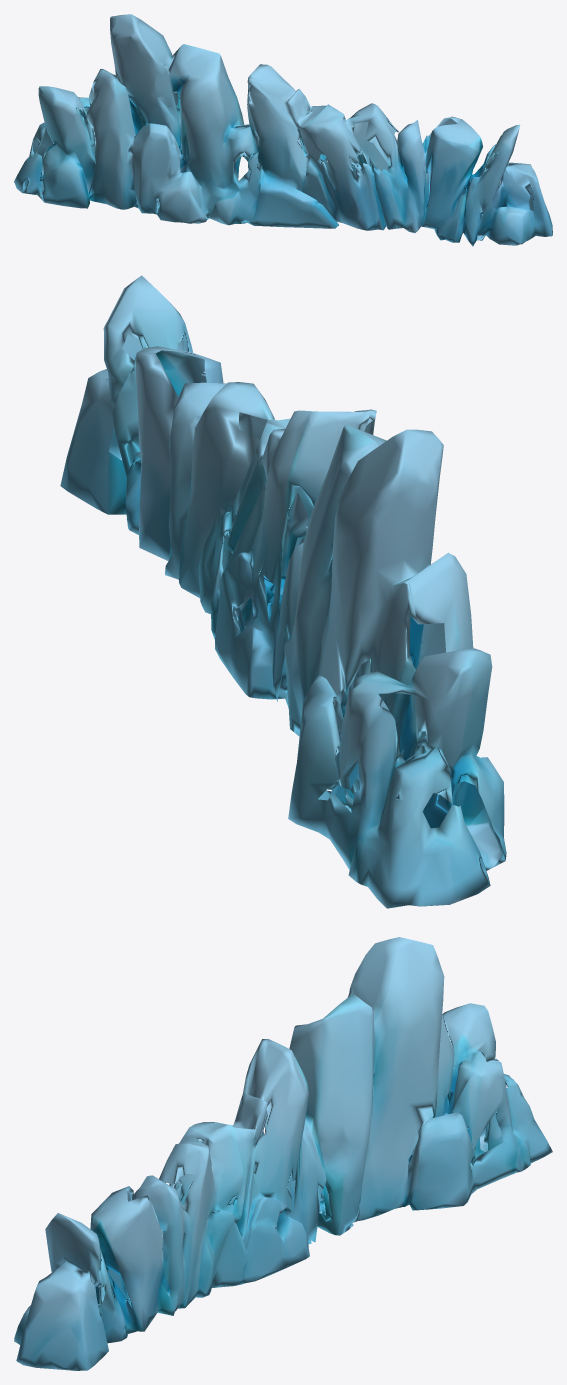
File: led-greben.glb
3 renders of one model, top to bottom at view 1: azimuth 30°, elevation 25°; view 2: azimuth 150°, elevation 25°; view 3: azimuth 270°, elevation 25°, orthographic. The views are drawn at different scales.
Visible parts, largest first — view 1: geometry_0; view 2: geometry_0; view 3: geometry_0.
Part boxes in pixels (box(x1,y1,x2,y2)): geometry_0: box(14, 14, 552, 246); geometry_0: box(60, 275, 506, 908); geometry_0: box(14, 937, 552, 1370).
Size of the model in its own units: 0.9965 by 0.509 by 0.9562.
Materials: 1 (1 with a texture image).
